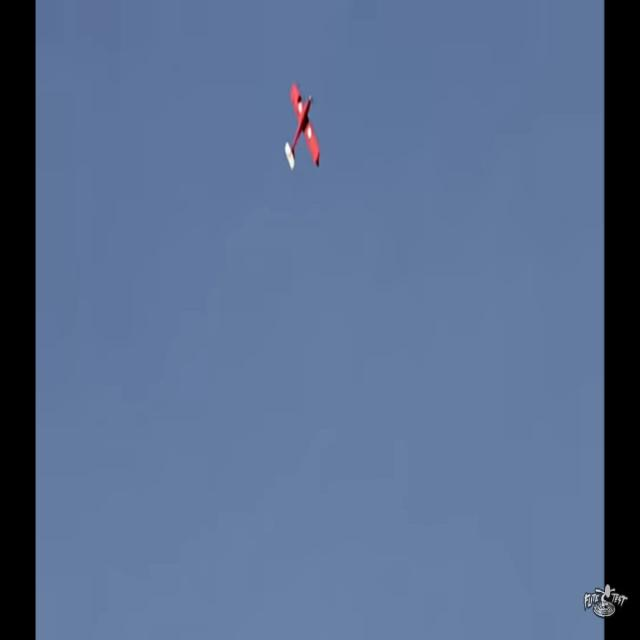iha: (281, 50, 320, 77)
